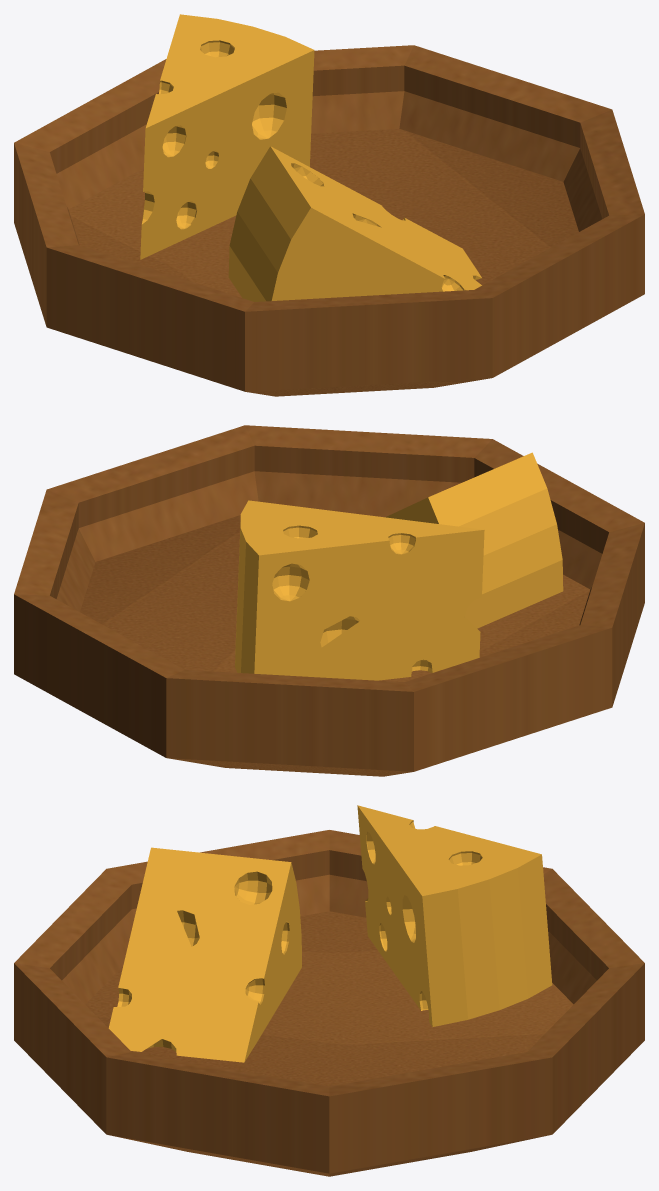
Rendered from peynirlikp.fbx.
The picture shows the model from 3 angles, top to bottom: view 1: azimuth 30°, elevation 25°; view 2: azimuth 150°, elevation 25°; view 3: azimuth 270°, elevation 25°; orthographic projection. The views are drawn at different scales.
Parts seen in each view (by area): view 1: Cylinder.079; view 2: Cylinder.079; view 3: Cylinder.079.
Boxes of the visible parts, bbox=[...] form: Cylinder.079: bbox=[14, 14, 644, 396]; Cylinder.079: bbox=[14, 425, 644, 776]; Cylinder.079: bbox=[14, 805, 644, 1176].
Bounding box in the file's own units: 43.8 × 16.76 × 43.8.
Materials: 2 (2 with a texture image).
